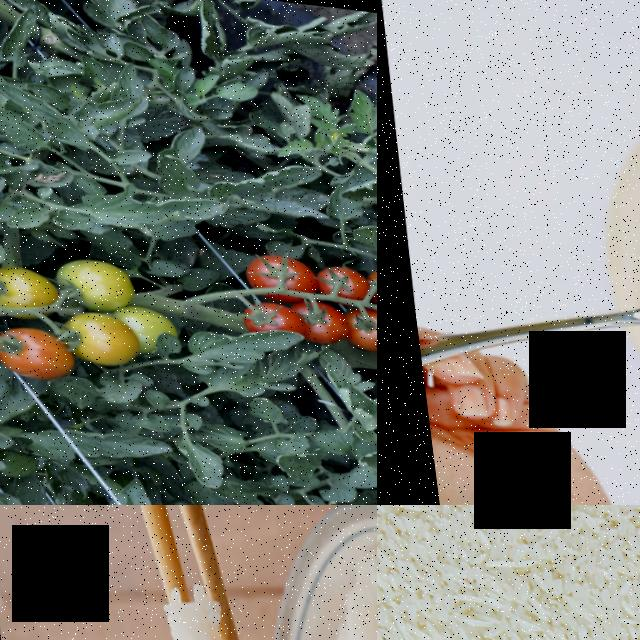tomato: (48, 305, 135, 362), (46, 251, 130, 309), (231, 241, 310, 294), (0, 321, 68, 378), (332, 296, 377, 342)
white rice: (428, 505, 640, 640)
